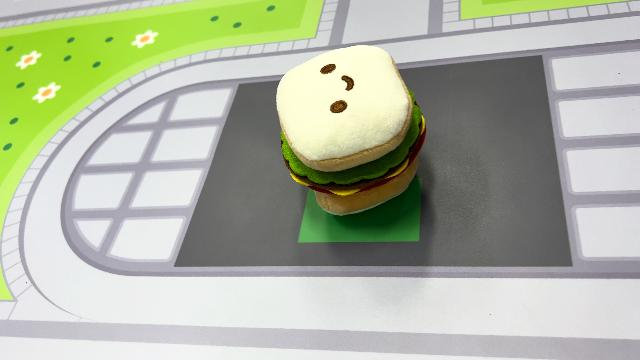sandwich: (274, 42, 428, 216)
